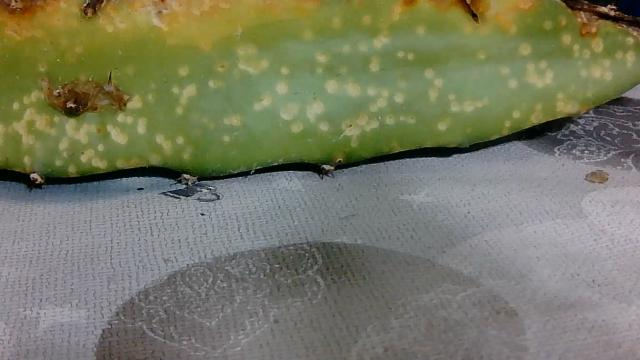stemcanker: (160, 59, 341, 165), (337, 64, 497, 145), (14, 109, 158, 176), (305, 18, 421, 73), (555, 26, 640, 88), (495, 95, 584, 138), (497, 43, 558, 91), (230, 36, 267, 57)
